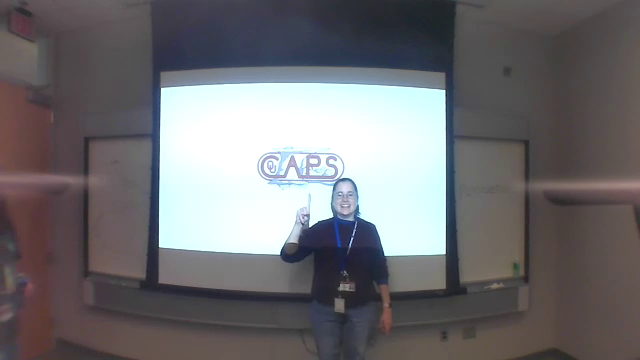up: (294, 189, 313, 227)
